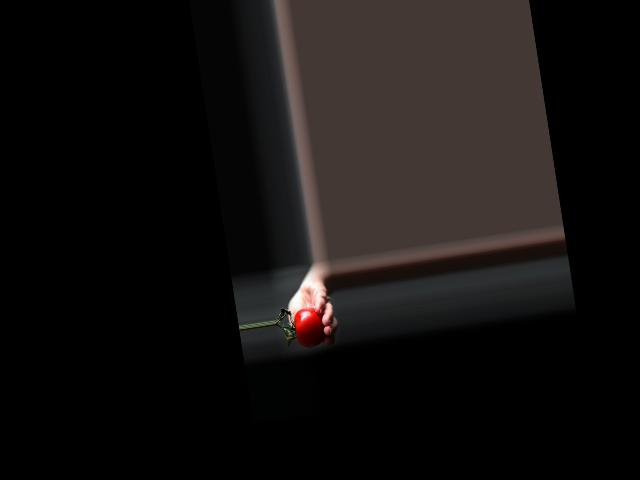tomato: (291, 305, 327, 349)
